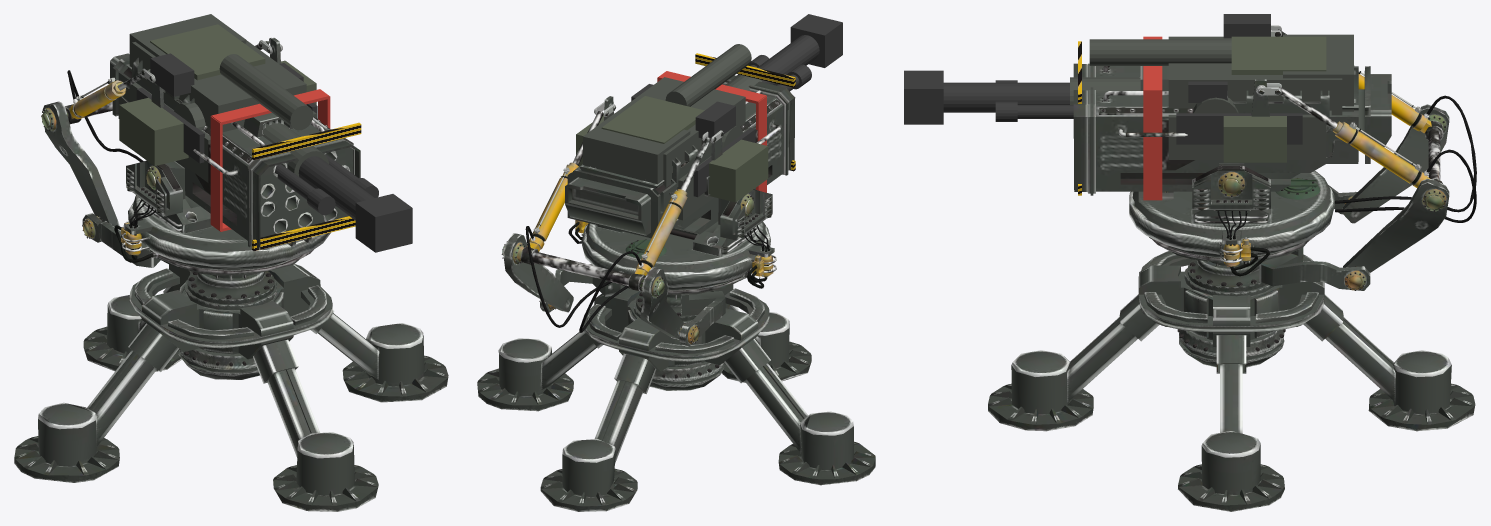
Rendered from turrets.glb.
The picture shows the model from 3 angles, left to right: view 1: azimuth 30°, elevation 25°; view 2: azimuth 150°, elevation 25°; view 3: azimuth 270°, elevation 25°; orthographic projection. The views are drawn at different scales.
Visible parts, largest first — view 1: t_low.025, t_low, t_low.002, CBreech, CBarrel, GAmmo, CBox, GBarrel1, BandB, HazBot, GCradle, t_low.019 (+1 smaller); view 2: t_low.025, t_low, t_low.002, CBreech, GCradle, CBarrel, t_low.019, CBox, GAmmo, t_low.021, GBarrel1, BandB (+1 smaller); view 3: t_low.025, t_low, t_low.002, CBreech, CBox, CBarrel, t_low.019, GCradle, GBarrel1, BandB, t_low.021.
Part boxes in pixels (x1,y1,x2,y2): t_low.025: (14,264,448,511); t_low: (41,77,330,275); t_low.002: (110,37,360,249); CBreech: (132,40,328,176); CBarrel: (150,53,412,252); GAmmo: (119,97,188,166); CBox: (150,24,316,104); GBarrel1: (136,63,378,215); BandB: (210,89,330,231); HazBot: (252,122,361,250); GCradle: (129,14,316,182); t_low.019: (82,200,181,267); t_low.025: (477,284,875,511); t_low: (502,162,774,339); t_low.002: (565,75,795,238); CBreech: (616,44,761,187); GCradle: (583,113,754,220); CBarrel: (695,14,842,138); t_low.019: (540,220,776,346); CBox: (576,96,704,166); GAmmo: (708,139,768,202); t_low.021: (501,168,769,343); GBarrel1: (631,55,811,197); BandB: (657,71,766,192); t_low.025: (988,251,1475,511); t_low: (1129,65,1449,272); t_low.002: (1073,25,1391,195); CBreech: (1070,36,1342,115); CBox: (1223,36,1326,162); CBarrel: (904,14,1270,124); t_low.019: (1164,178,1370,290); GCradle: (1168,34,1353,159); GBarrel1: (995,80,1302,144); BandB: (1143,36,1162,200); t_low.021: (1166,95,1476,290).
Size of the model in its own units: 6.18 by 5.15 by 7.26.
Materials: 8 (4 with a texture image).
